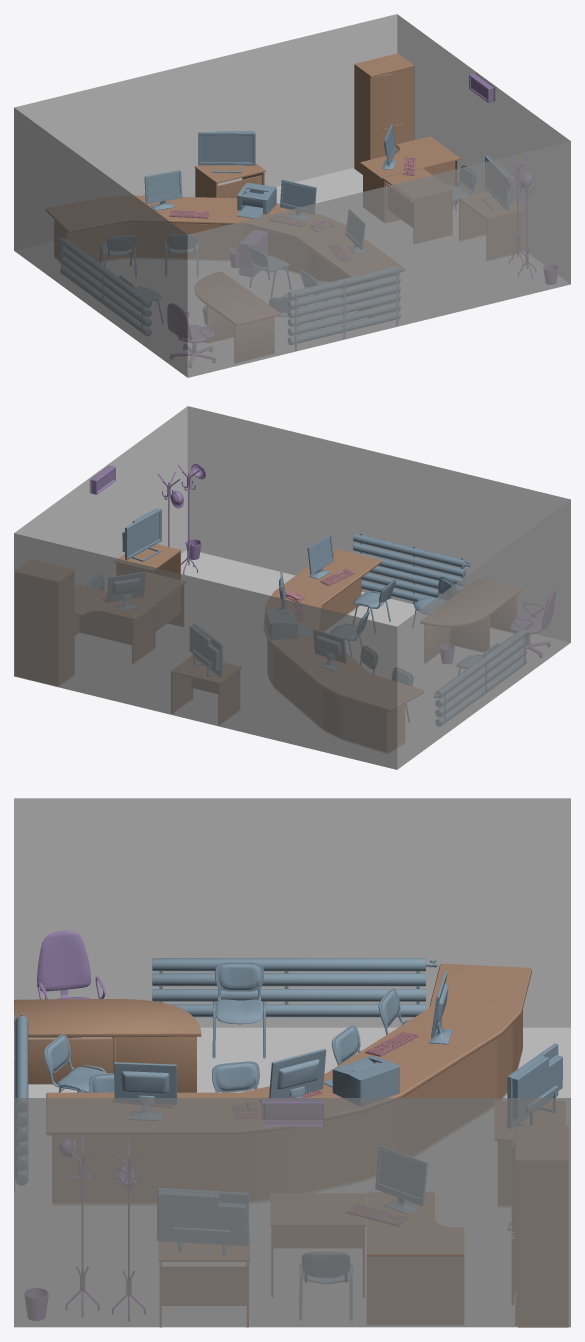
The model's file is project1.fbx.
The picture shows the model from 3 angles, top to bottom: view 1: azimuth 30°, elevation 25°; view 2: azimuth 150°, elevation 25°; view 3: azimuth 270°, elevation 25°; orthographic projection. The views are drawn at different scales.
Parts seen in each view (by area): view 1: pCube1, table, wardrobe, polySurface68, group2_pasted__Box008, TOP_SIDE2, polySurface60, Cube.010, TOP_SIDE3, monitor2, TOP_SIDE1, pasted__polySurface46 (+11 smaller); view 2: pCube1, table, wardrobe, group2_pasted__Box008, polySurface68, Cube.010, polySurface60, TOP_SIDE1, TOP_SIDE2, TOP_SIDE3, monitor10, monitor2 (+9 smaller); view 3: pCube1, table, polySurface60, group2_pasted__Box008, wardrobe, Cube.010, TOP_SIDE2, TOP_SIDE3, monitor10, pasted__polySurface46, monitor2, monitor7 (+16 smaller).
Boxes of the visible parts, box(x1,y1,x2,y2) form: pCube1: box(14, 14, 570, 377); table: box(46, 195, 404, 317); wardrobe: box(354, 53, 414, 174); polySurface68: box(283, 266, 400, 350); group2_pasted__Box008: box(195, 271, 280, 362); TOP_SIDE2: box(383, 168, 452, 243); polySurface60: box(59, 237, 151, 335); Cube.010: box(360, 136, 460, 222); TOP_SIDE3: box(459, 191, 525, 260); monitor2: box(198, 131, 255, 173); TOP_SIDE1: box(194, 163, 265, 198); pasted__polySurface46: box(167, 303, 215, 367); pCube1: box(14, 406, 570, 769); table: box(264, 548, 423, 752); wardrobe: box(15, 560, 74, 686); group2_pasted__Box008: box(420, 579, 521, 662); polySurface68: box(353, 533, 470, 604); Cube.010: box(75, 585, 156, 663); polySurface60: box(434, 629, 526, 726); TOP_SIDE1: box(171, 655, 241, 724); TOP_SIDE2: box(136, 572, 185, 647); TOP_SIDE3: box(115, 544, 181, 579); monitor10: box(122, 508, 161, 561); monitor2: box(190, 624, 223, 676); pCube1: box(14, 798, 570, 1327); table: box(46, 963, 531, 1202); polySurface60: box(152, 958, 437, 1017); group2_pasted__Box008: box(14, 999, 201, 1092); wardrobe: box(507, 1126, 568, 1327); Cube.010: box(366, 1192, 464, 1324); TOP_SIDE2: box(270, 1193, 365, 1297); TOP_SIDE3: box(159, 1230, 249, 1327); monitor10: box(157, 1188, 248, 1255); pasted__polySurface46: box(37, 930, 105, 1037); monitor2: box(506, 1043, 562, 1128); monitor7: box(114, 1062, 177, 1120).
Size of the model in its own units: 703 by 252 by 550.
